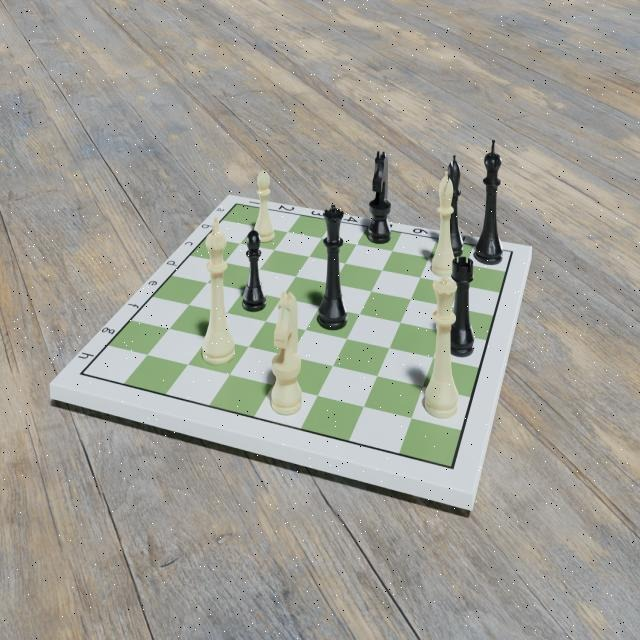black-bishop: (443, 154, 465, 258)
black-king: (475, 138, 505, 266)
black-knight: (366, 150, 392, 244)
black-pawn: (241, 227, 267, 312)
black-queen: (316, 204, 348, 331)
black-rook: (448, 254, 475, 357)
white-bishop: (430, 169, 457, 278)
white-king: (202, 215, 236, 368)
white-knight: (270, 288, 302, 415)
white-pawn: (252, 169, 276, 244)
white-queen: (424, 276, 460, 420)
